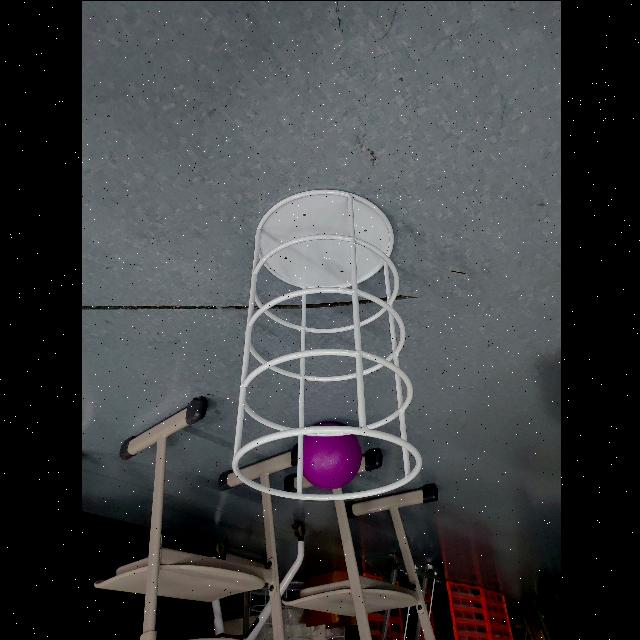S: (228, 184, 424, 502)
